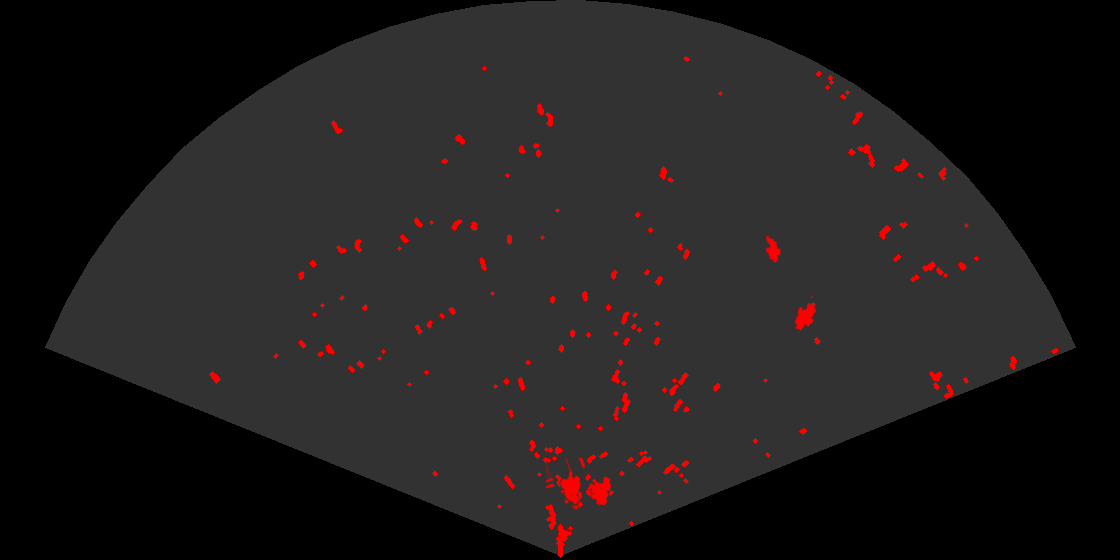AUV: (793, 294, 818, 332), (764, 234, 783, 264)
cage: (546, 458, 613, 511)
